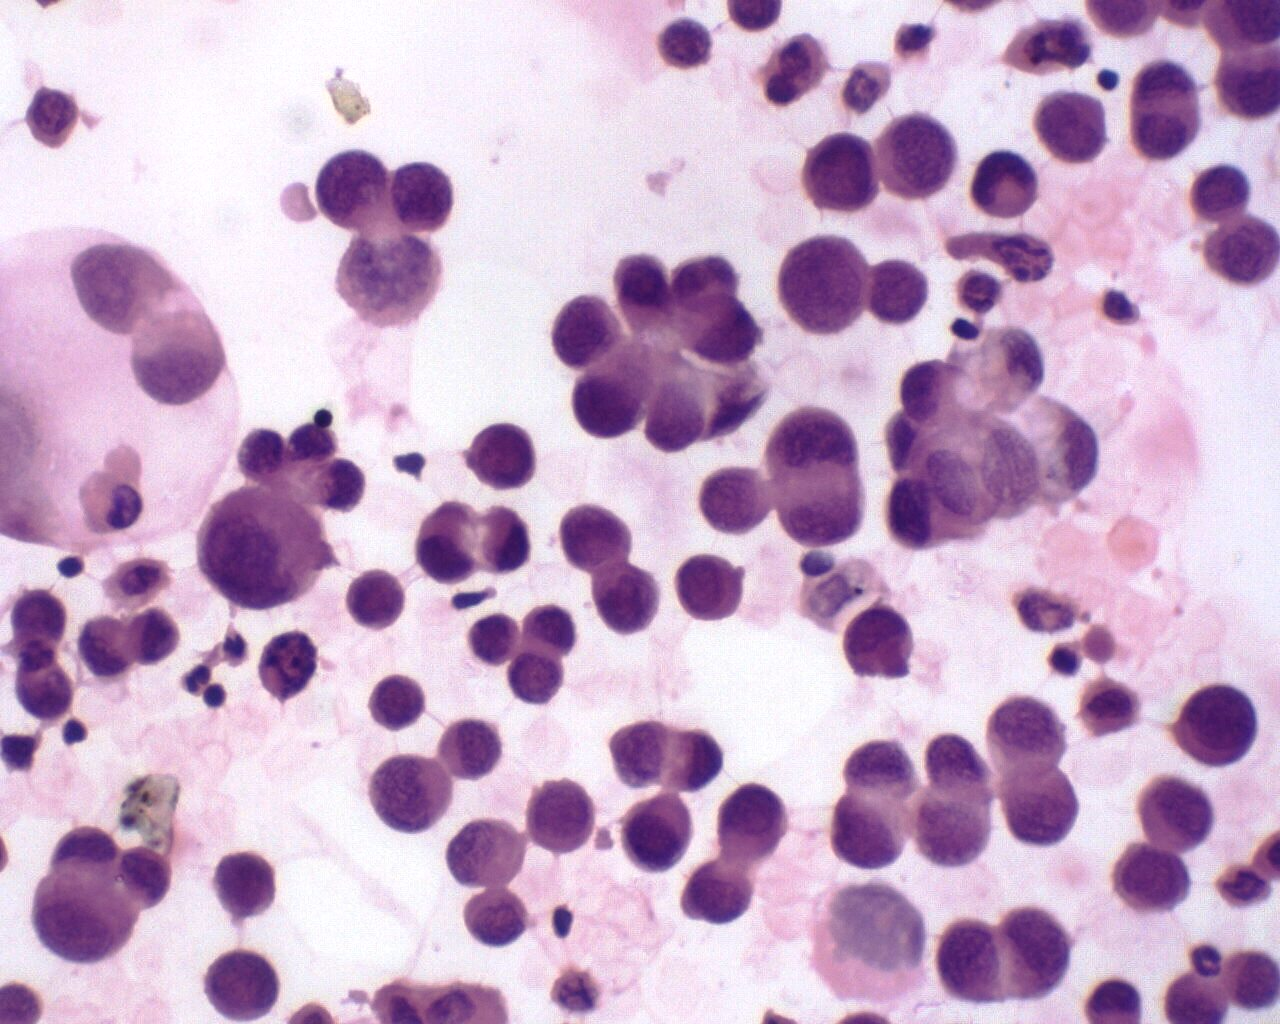ab: (202, 482, 338, 604), (779, 236, 868, 340), (994, 903, 1075, 1008), (875, 108, 959, 204), (1176, 682, 1260, 772), (998, 758, 1081, 848), (827, 784, 909, 872), (1127, 773, 1219, 853), (201, 945, 288, 1024), (800, 130, 879, 216), (839, 603, 917, 686), (934, 915, 1008, 1003), (556, 496, 639, 573), (620, 795, 698, 876), (671, 548, 749, 627), (1029, 88, 1109, 165), (716, 783, 788, 867), (551, 294, 627, 373), (1111, 838, 1191, 913), (526, 775, 596, 860), (571, 362, 647, 438), (313, 149, 387, 229), (464, 421, 541, 491), (387, 157, 455, 234), (591, 564, 661, 637), (206, 850, 279, 918), (458, 884, 533, 950), (699, 463, 763, 536), (437, 714, 499, 786), (1188, 159, 1255, 223), (341, 566, 408, 629), (367, 675, 430, 736)
lymph: (197, 678, 232, 711)
neutro: (1185, 939, 1226, 981)
